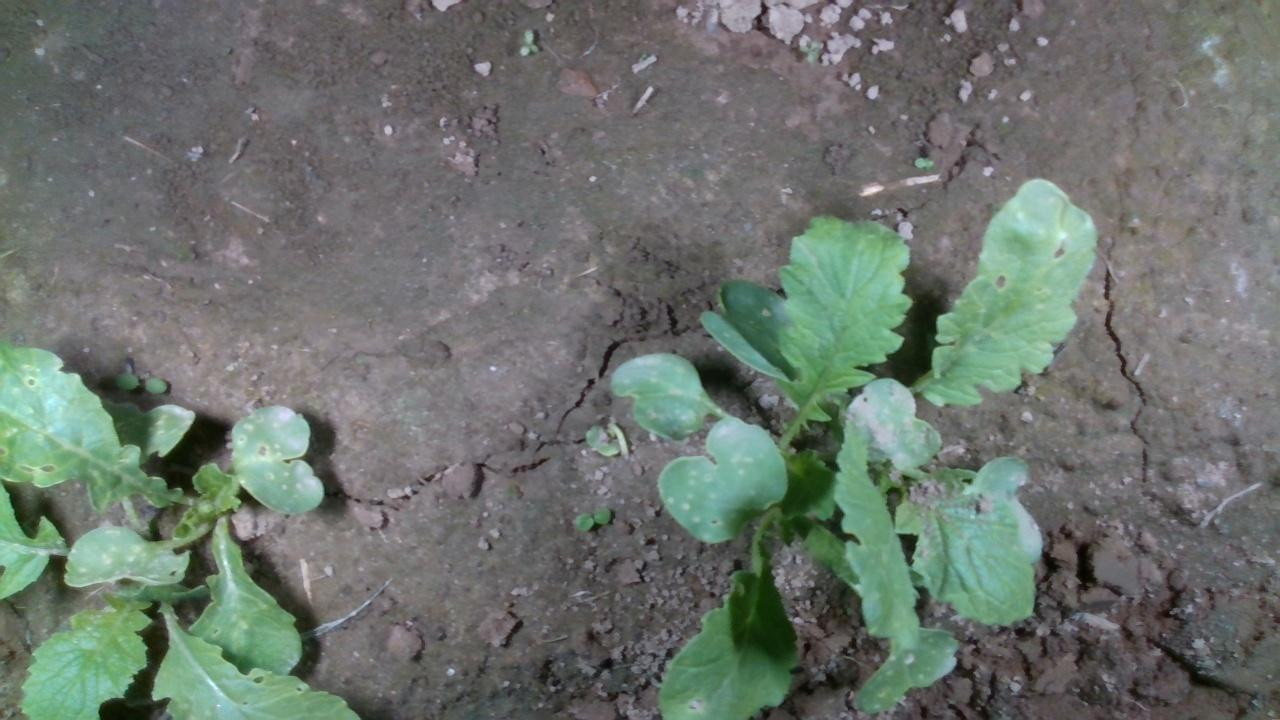weed: (111, 368, 169, 394), (571, 503, 609, 532), (910, 154, 936, 169)
